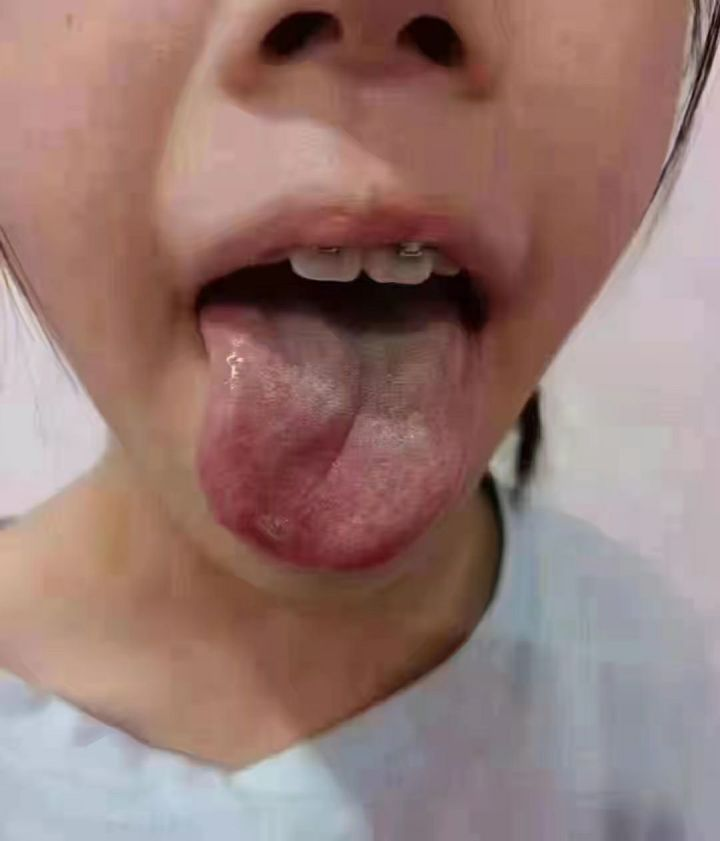baitaishe: (197, 304, 481, 572)
hongshe: (197, 304, 481, 572)
